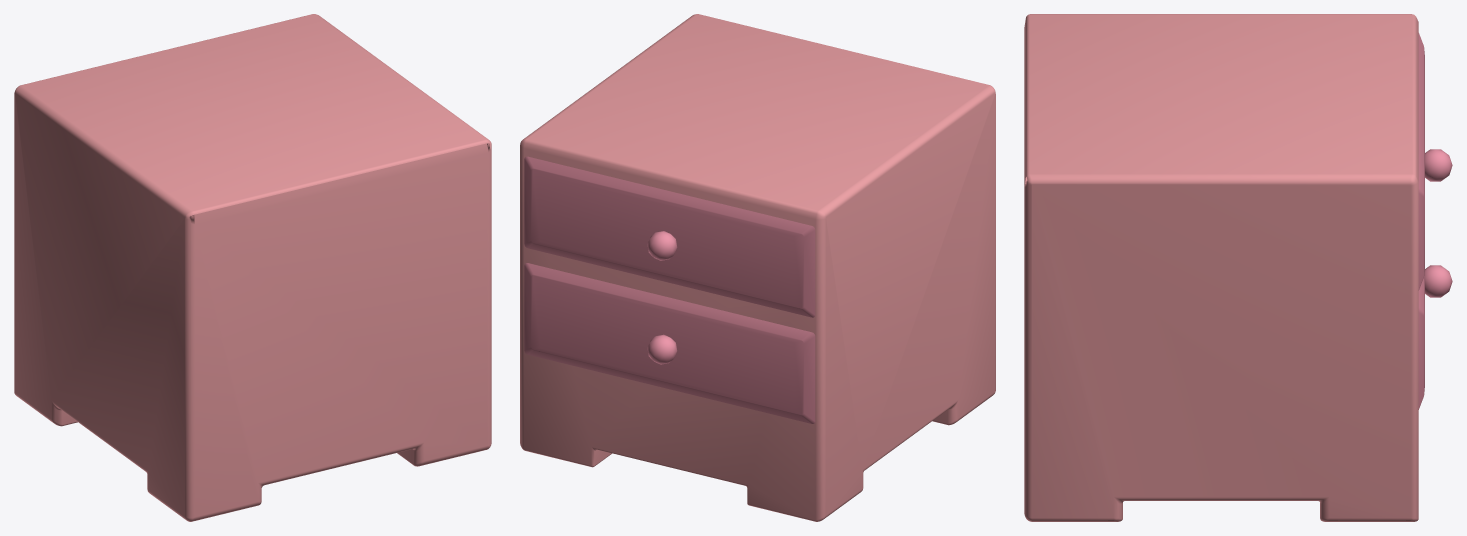
File: pink bedside table.fbx
3 views of the same model, side by side, from view 1: azimuth 30°, elevation 25°; view 2: azimuth 150°, elevation 25°; view 3: azimuth 270°, elevation 25° (orthographic). The views are drawn at different scales.
Parts seen in each view (by area): view 1: Cube; view 2: Cube; view 3: Cube.
Part boxes in pixels (x1,y1,x2,y2): Cube: (14, 14, 491, 521); Cube: (520, 14, 995, 521); Cube: (1024, 14, 1452, 521).
Size of the model in its own units: 54.5 by 52.89 by 59.1.
